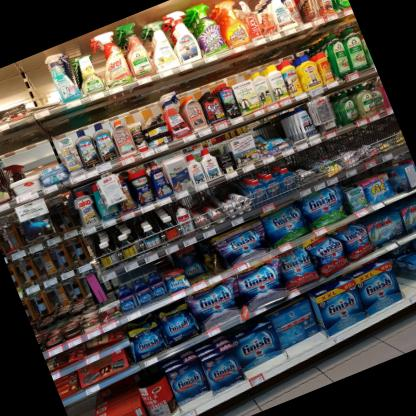empty_space: (12, 51, 62, 114), (387, 239, 416, 297), (277, 103, 308, 146)
